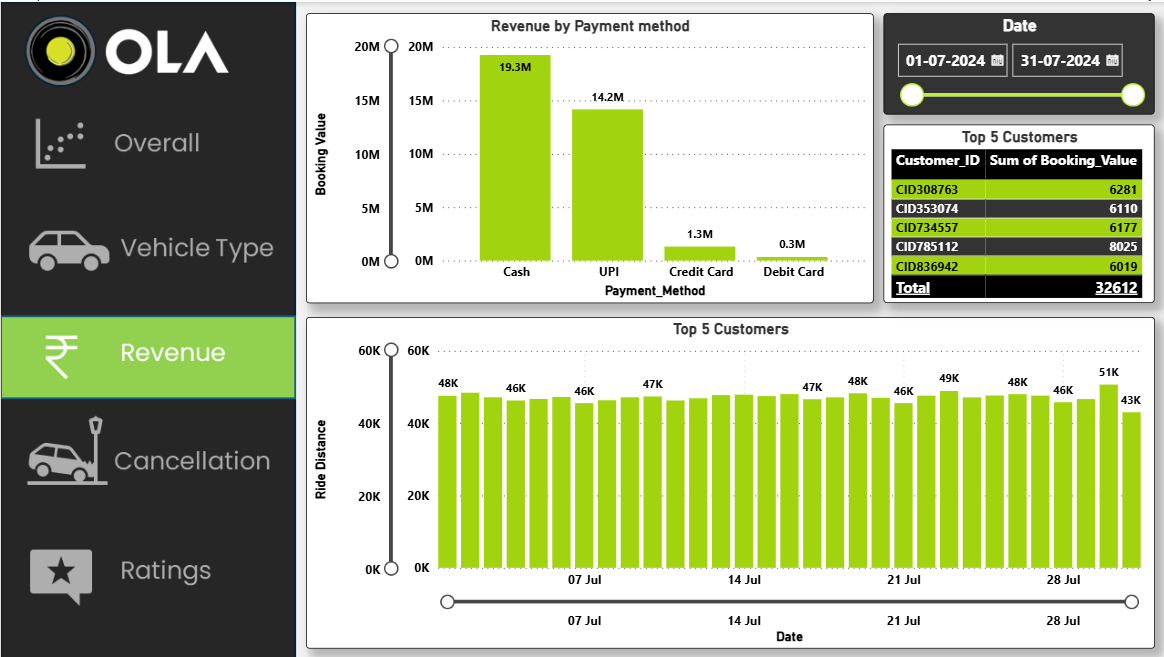

The page's visual inventory and layout, read from the dashboard file:
{"tool":"powerbi","page":{"name":"Revenue","canvas":[1280,720],"ordinal":2},"visuals":[{"type":"actionButton","box":[0,112.2,325.6,91.7],"z":0},{"type":"actionButton","box":[0,219.5,325.6,91.7],"z":1000},{"type":"actionButton","box":[0,452.3,325.6,91.7],"z":2000},{"type":"actionButton","box":[0,577.7,325.6,91.7],"z":3000},{"type":"columnChart","title":"Revenue by Payment method","fields":{"Category":["July.Payment_Method"],"Y":["Sum(July.Booking_Value)"]},"box":[334.8,12.3,623,318.4],"z":4000},{"type":"columnChart","title":"Top 5 Customers","fields":{"Y":["Sum(July.Ride_Distance)"],"Category":["July.Date"]},"box":[334.8,345.8,931.7,363.6],"z":5000},{"type":"slicer","title":"Date","fields":{"Values":["July.Date"]},"box":[968.8,12.3,297.8,111.1],"z":6000},{"type":"tableEx","title":"Top 5 Customers","fields":{"Values":["July.Customer_ID","Sum(July.Booking_Value)"]},"box":[968.8,134.5,297.8,196.2],"z":7000}]}

Visuals, with their boxes in screenshot pixels (x1, y1, x2, y2), scaled from the page's 1280x720 canvas onto the 1164x657 screenshot:
actionButton: detection(0, 102, 296, 186)
actionButton: detection(0, 200, 296, 284)
actionButton: detection(0, 413, 296, 496)
actionButton: detection(0, 527, 296, 611)
"Revenue by Payment method" columnChart: detection(304, 11, 871, 302)
"Top 5 Customers" columnChart: detection(304, 316, 1152, 647)
"Date" slicer: detection(881, 11, 1152, 113)
"Top 5 Customers" tableEx: detection(881, 123, 1152, 302)
